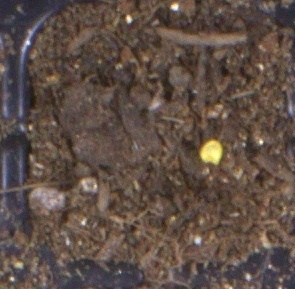chilli seed: (199, 139, 224, 165)
